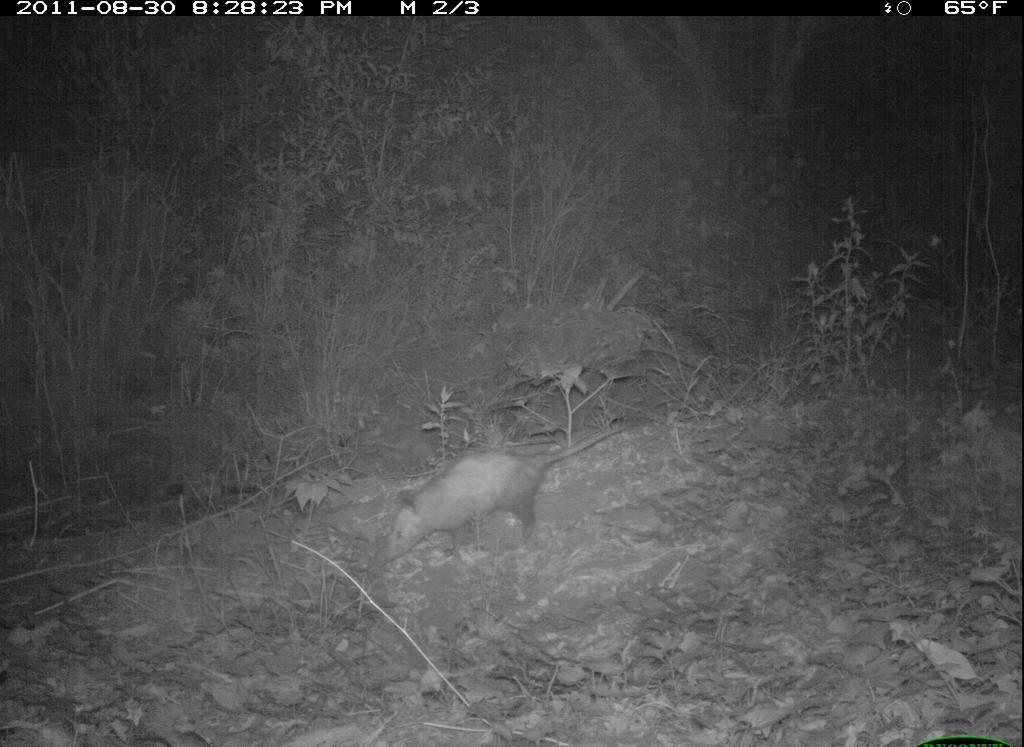opossum: (377, 410, 642, 571)
